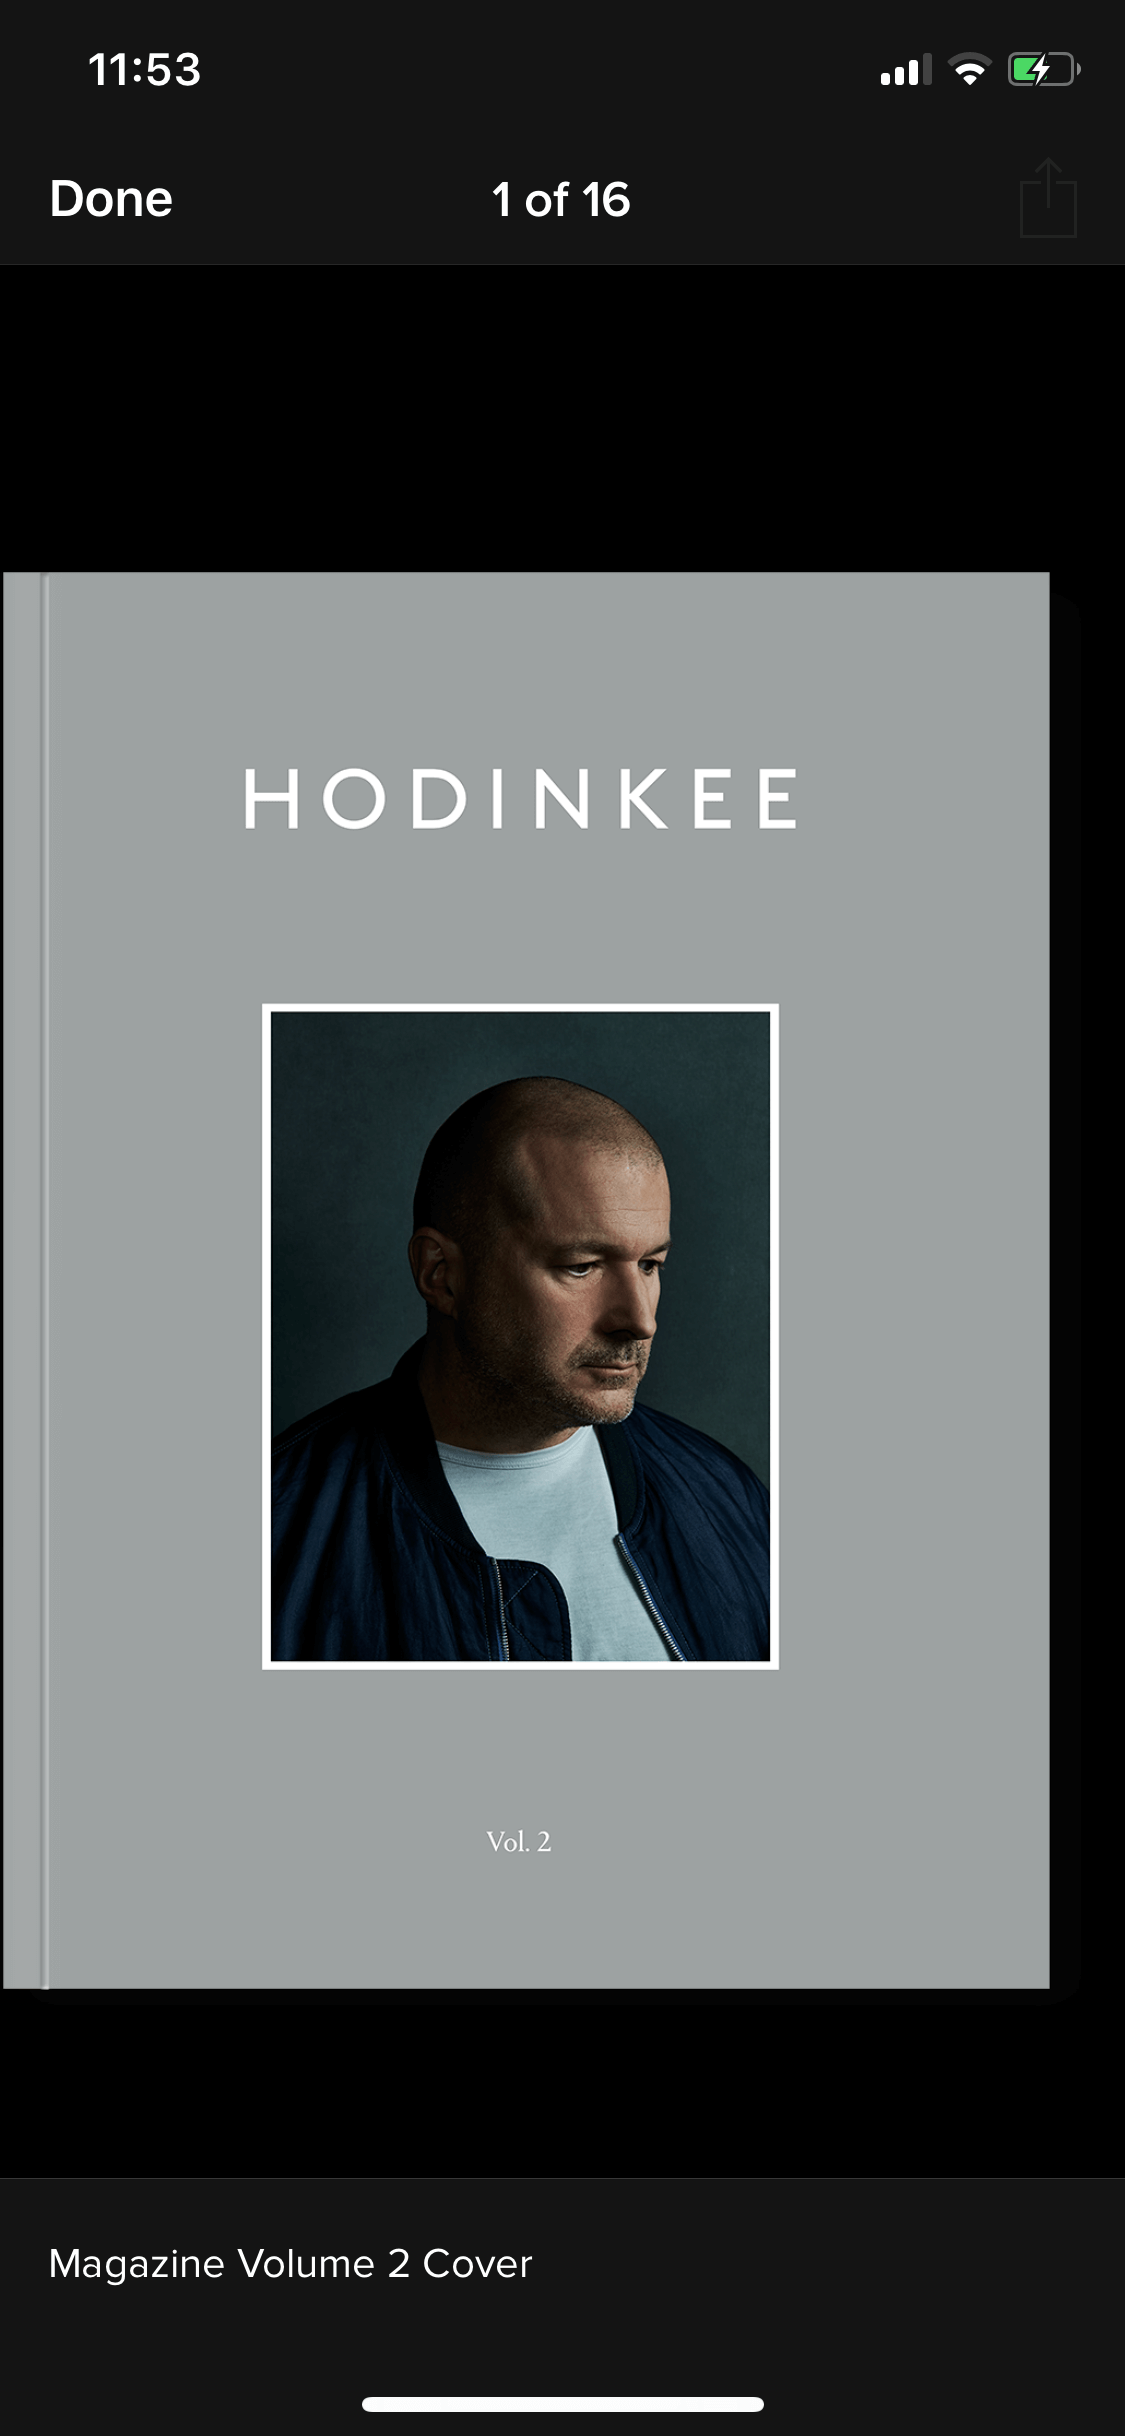Buttons: (8, 117, 235, 255), (980, 124, 1125, 263)
